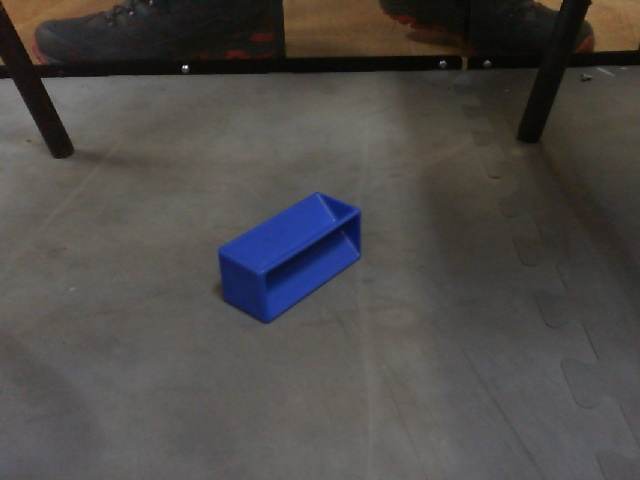BlueSample: (216, 187, 365, 330)
